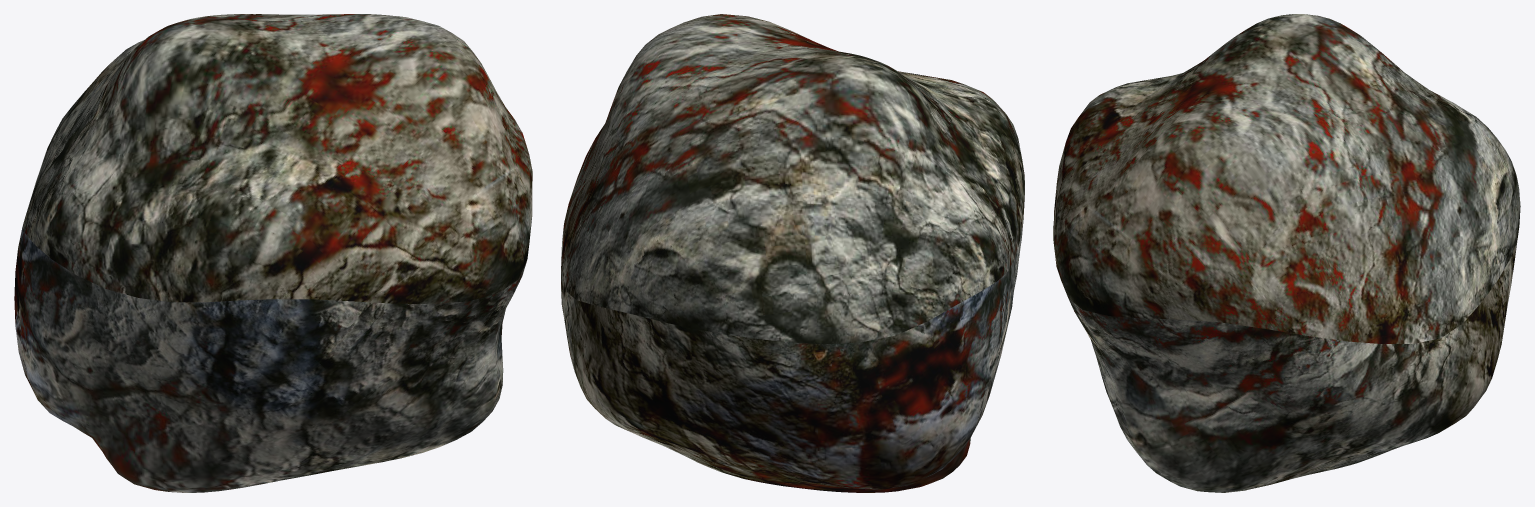
Rendered from asteroid.fbx.
3 renders of one model, left to right at view 1: azimuth 30°, elevation 25°; view 2: azimuth 150°, elevation 25°; view 3: azimuth 270°, elevation 25°, orthographic. The views are drawn at different scales.
Visible parts, largest first — view 1: asteroid:pSphere1; view 2: asteroid:pSphere1; view 3: asteroid:pSphere1.
Part boxes in pixels (box(x1,y1,x2,y2)): asteroid:pSphere1: box(14, 14, 532, 492); asteroid:pSphere1: box(561, 14, 1024, 492); asteroid:pSphere1: box(1053, 14, 1520, 492).
Bounding box in the file's own units: 0.0361 × 0.0344 × 0.0358.
Materials: 1 (1 with a texture image).
